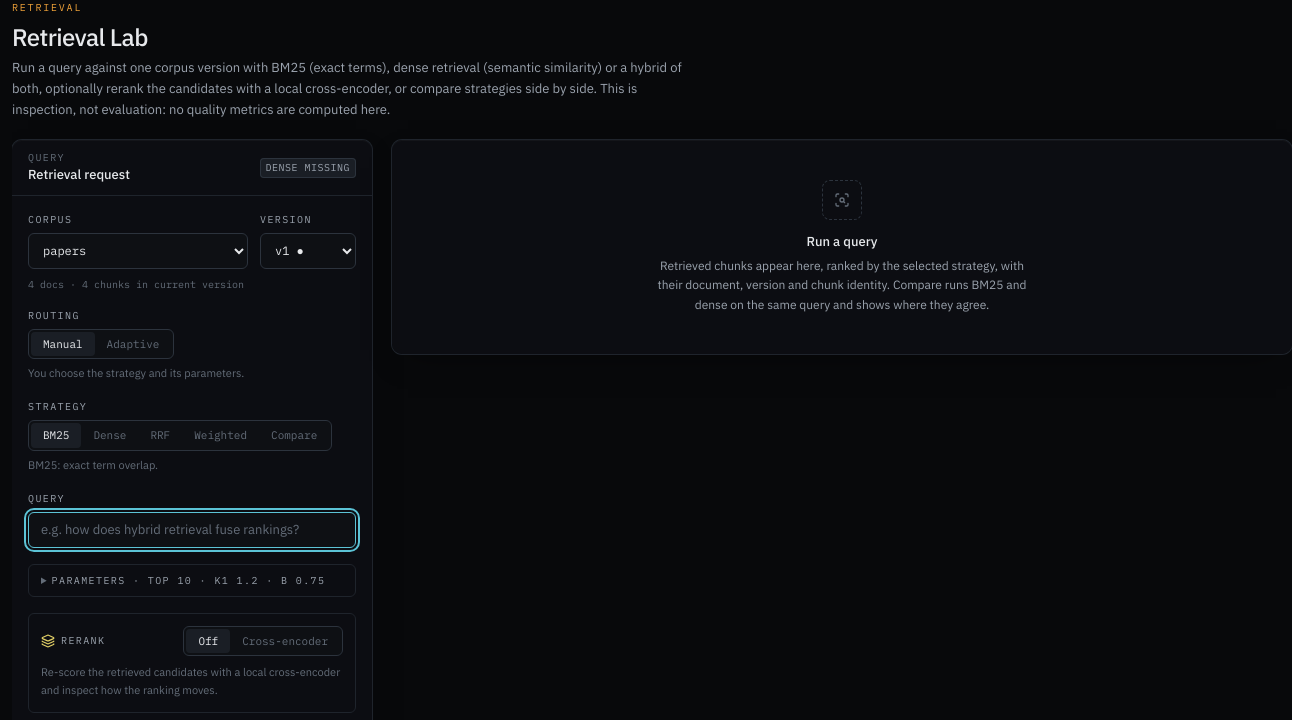
Test: Retrieval Lab reranking › sends the rerank configuration and shows movement with measured scores
Step 1. Click the radio button labelled "Cross-encoder" → (285, 641), box [242,634,328,648]
(page scrolled)
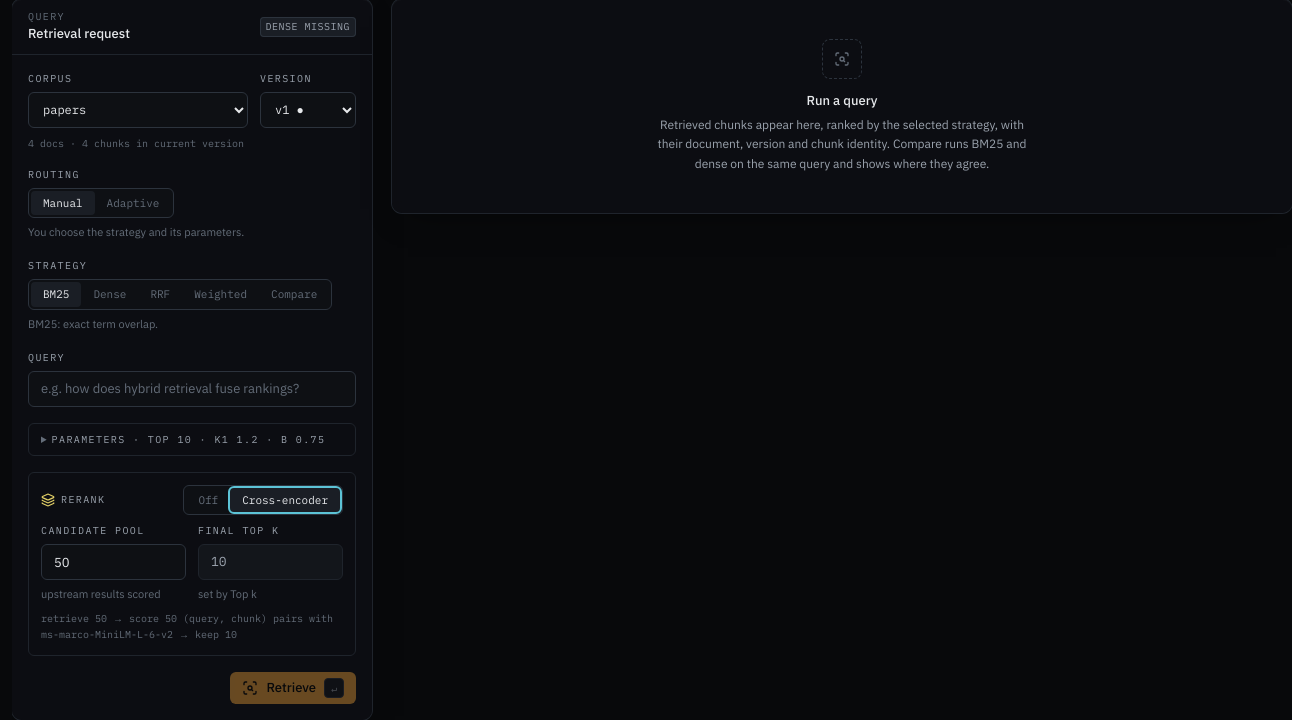
Step 2. Replace the text in the number field labelled "Candidate pool" with "4" → (114, 562), box [41,544,186,580]
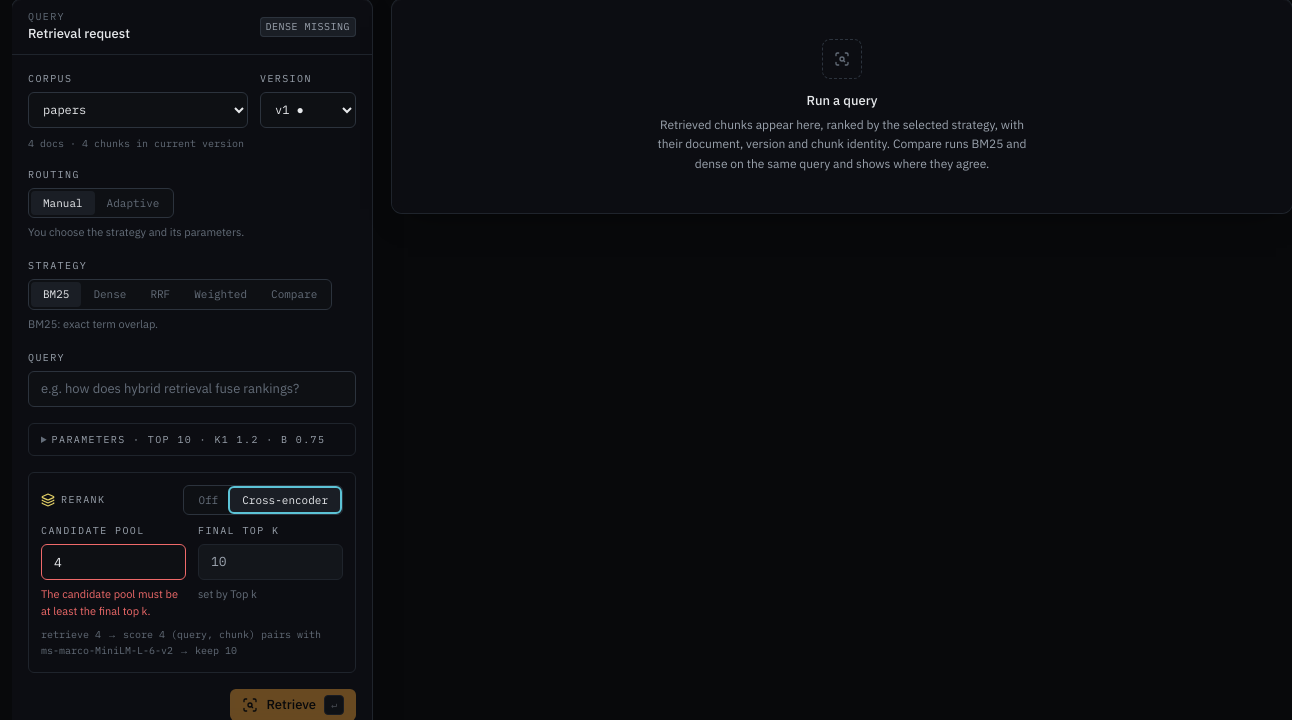
Step 3. Replace the text in the number field named "Top k" with "2" → (192, 439), box [28,423,356,456]
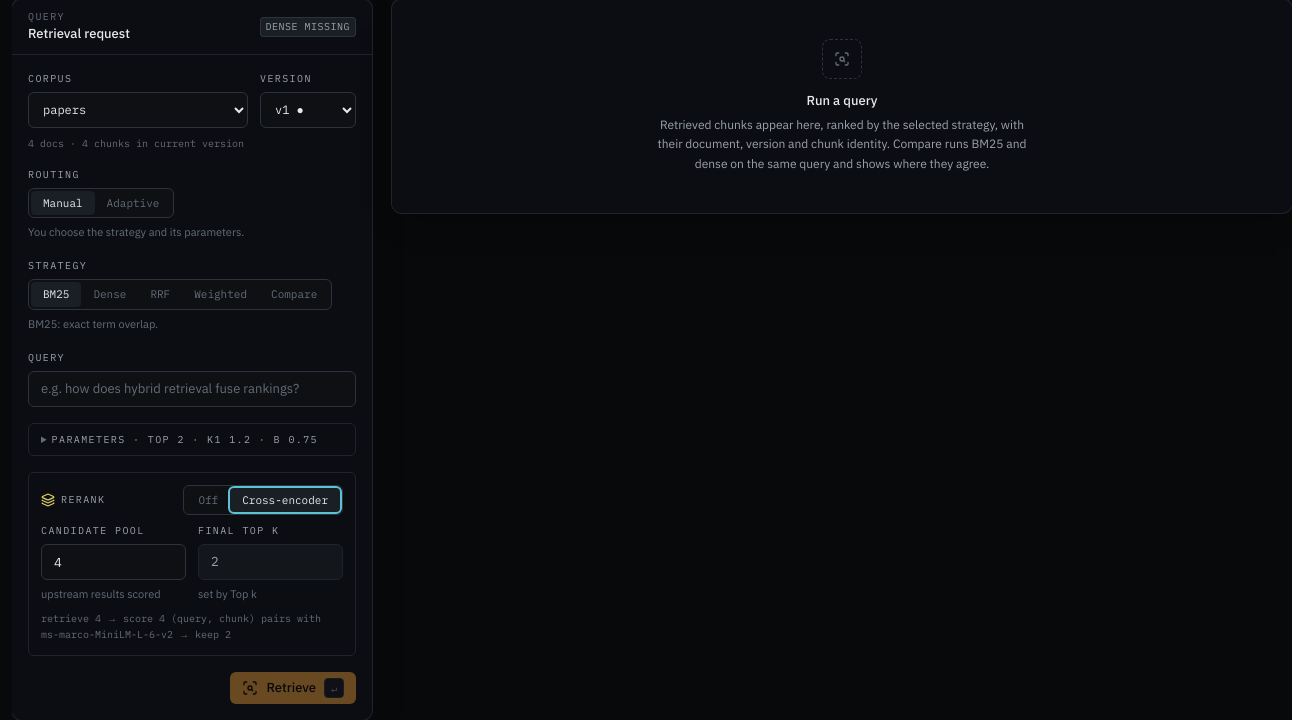
Step 4. Type "food" into the field labelled "Query" → (192, 389), box [28,371,356,407]
Then press Enter
(page scrolled)
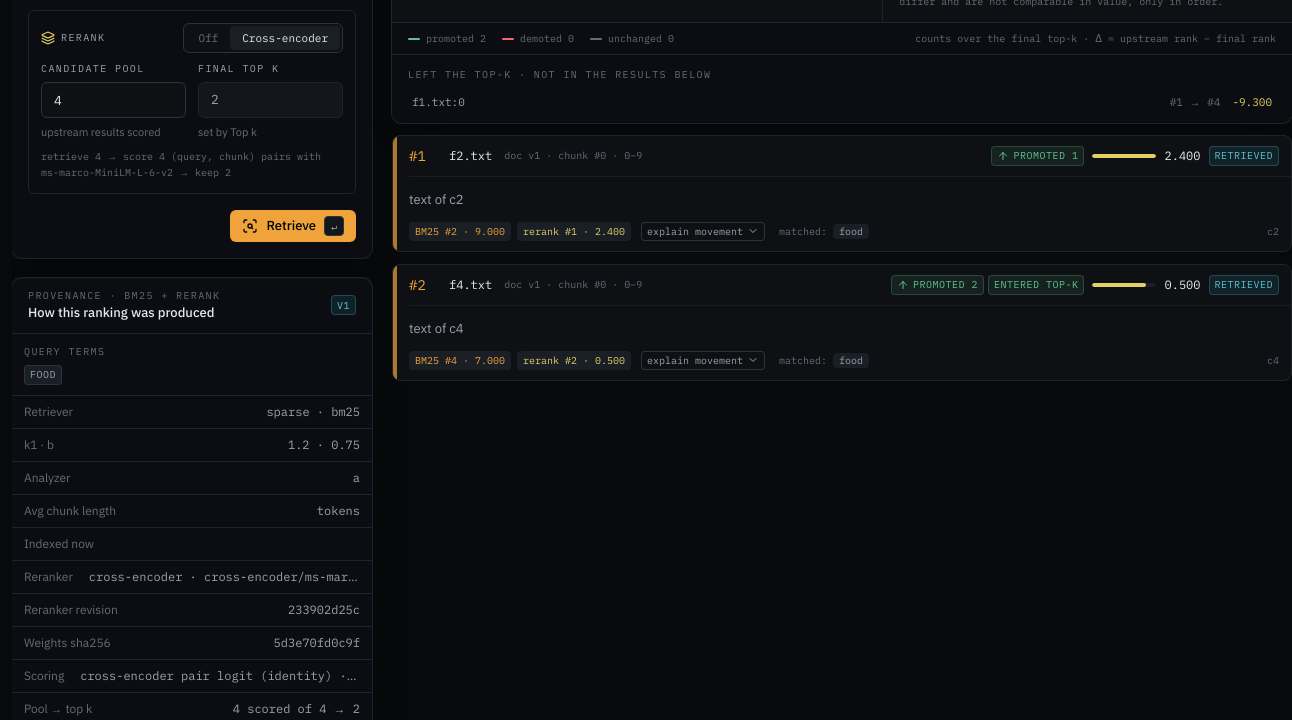
Check: the text "promoted 1" is shown, box [992,146,1084,166]
Check: the text "BM25 #2 · 9.000" is shown, box [409,222,511,241]
Check: the text "rerank #1 · 2.400" is shown, box [517,222,631,241]
Step 5. Click the button "explain movement" in the row of "7.000" → (703, 360), box [641,351,765,370]
(page scrolled)
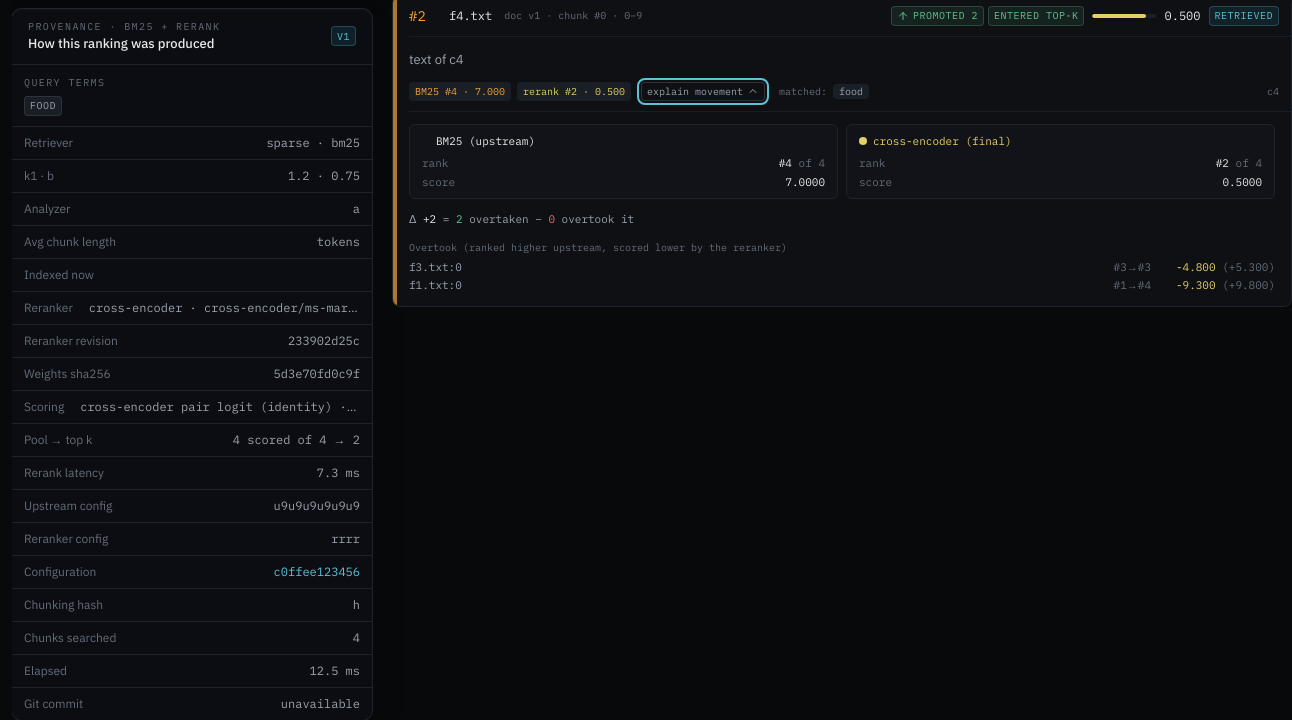
Check: the element named "Rank movement for result 2" shows "overtaken", box [463,212,542,226]
Check: the text "f1.txt:0" is shown, box [409,278,462,292]
Check: the text "7.3 ms" is shown 2 times
